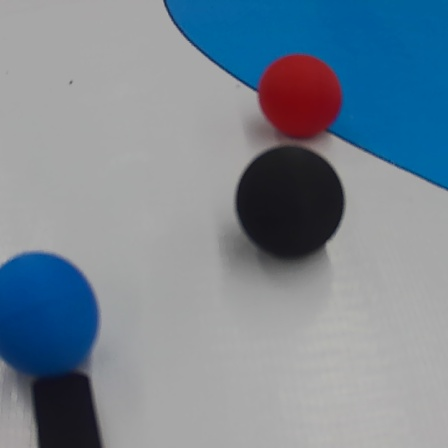black: (234, 141, 346, 264)
blue: (0, 250, 101, 376)
blue_base: (164, 0, 445, 198)
red: (257, 51, 343, 140)
